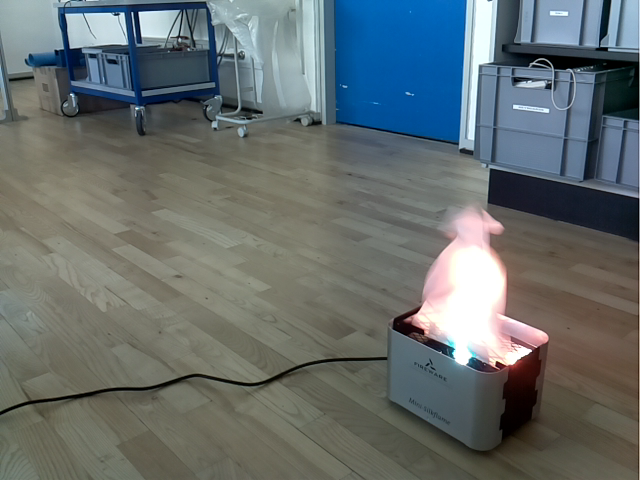fire: (410, 204, 514, 370)
